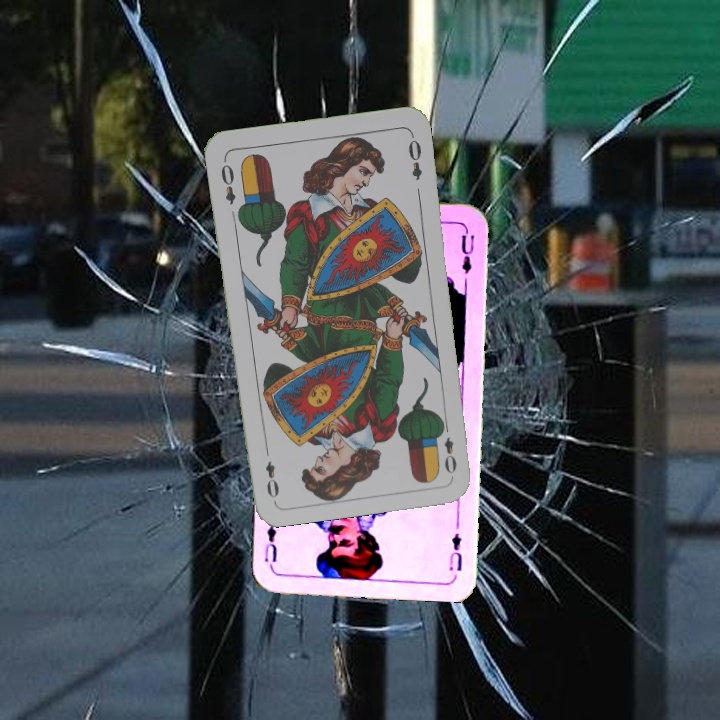EO: (436, 418, 459, 477), (216, 155, 238, 207)
EU: (445, 529, 465, 574)
